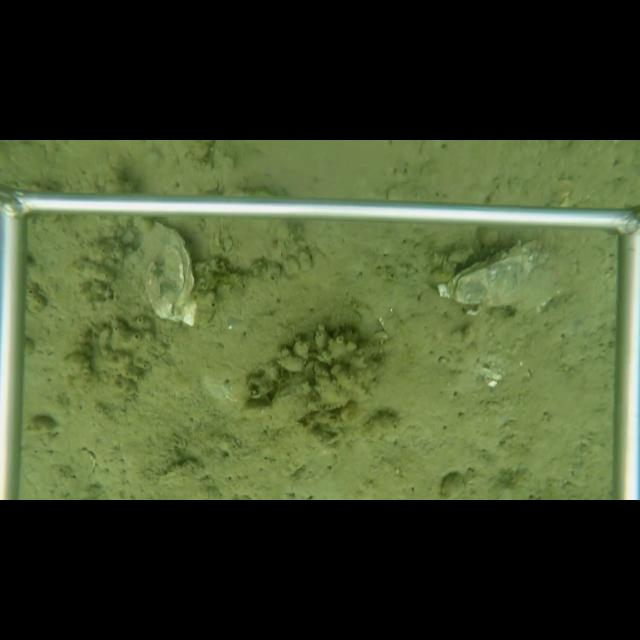Oyster-Closed: (126, 220, 219, 332), (436, 240, 566, 313)
